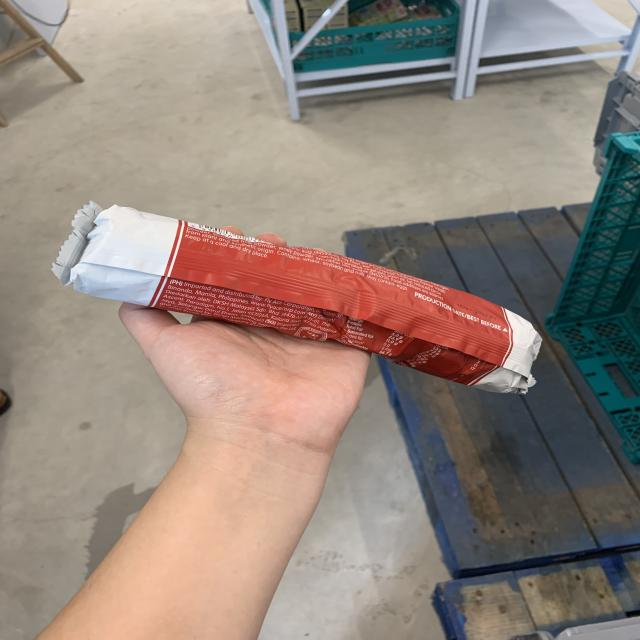object_name: (70, 210, 531, 379)
